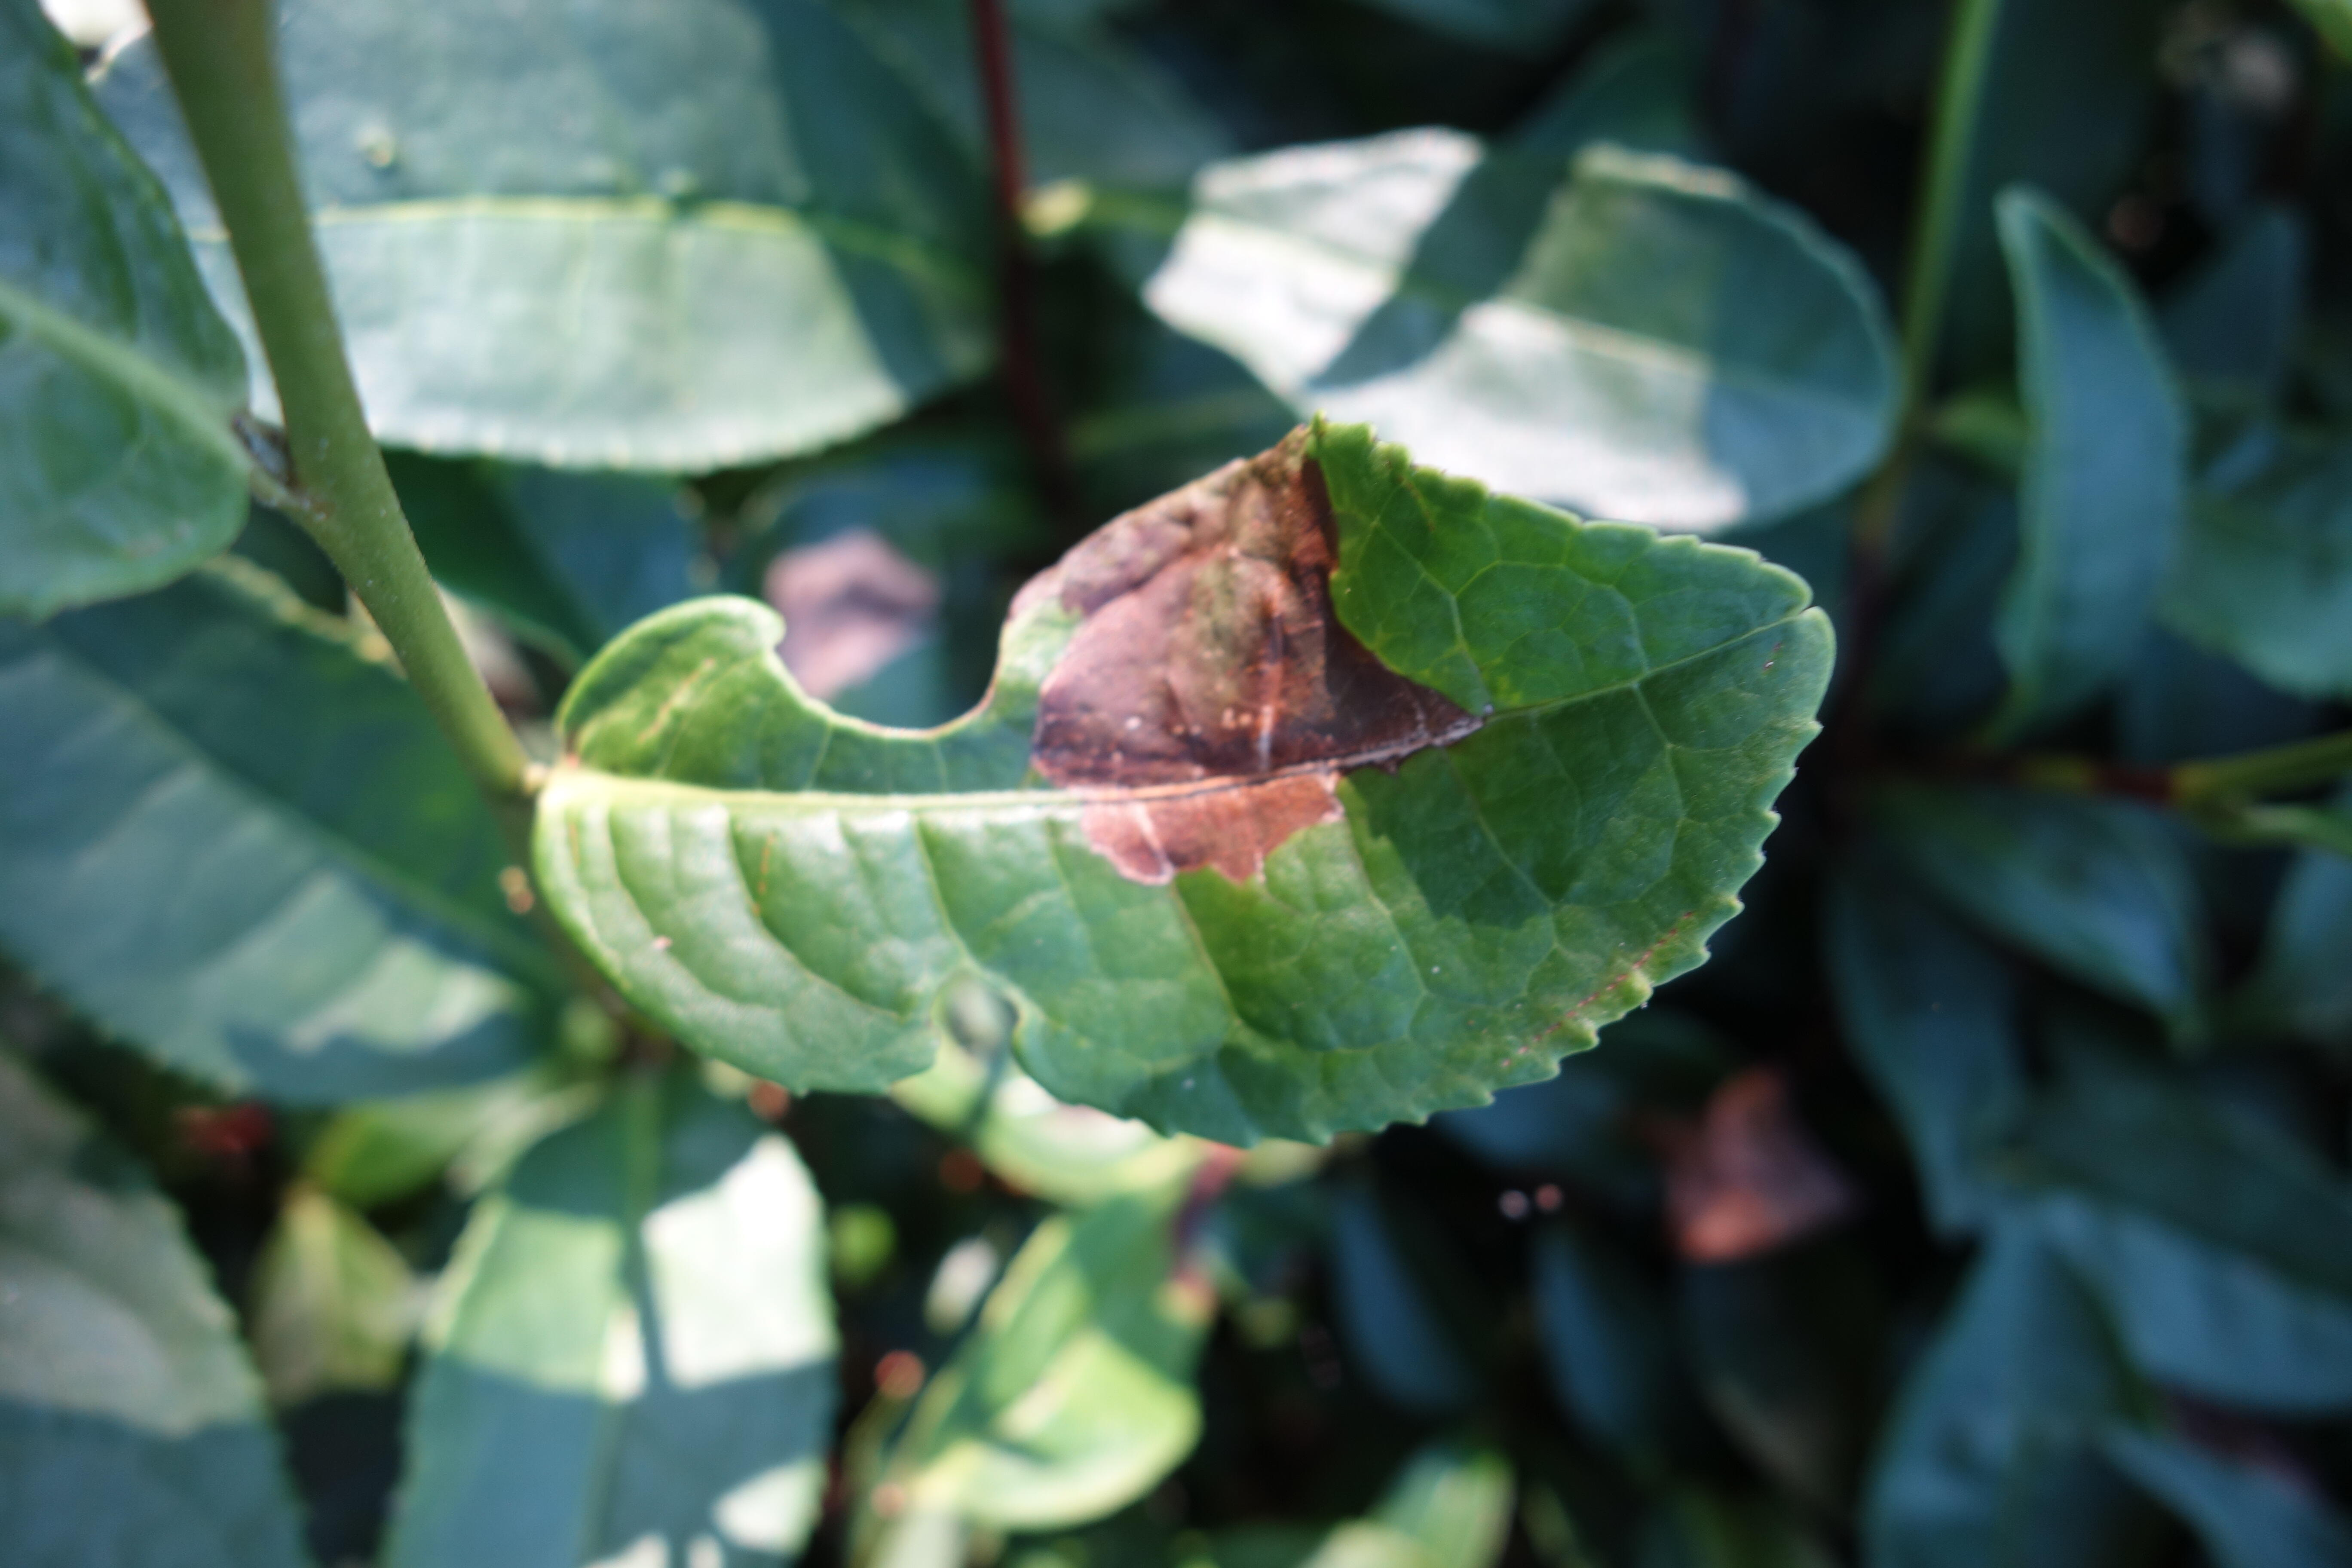tanju_high: (530, 416, 1839, 1153)
